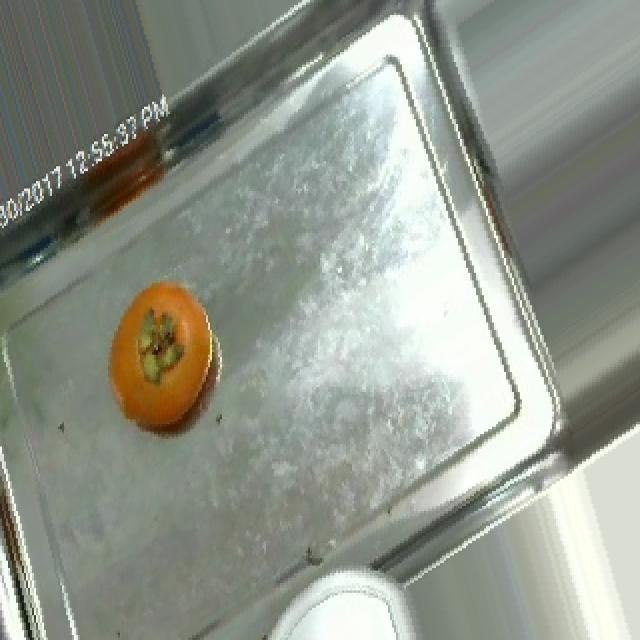Fruit: (94, 265, 234, 444)
